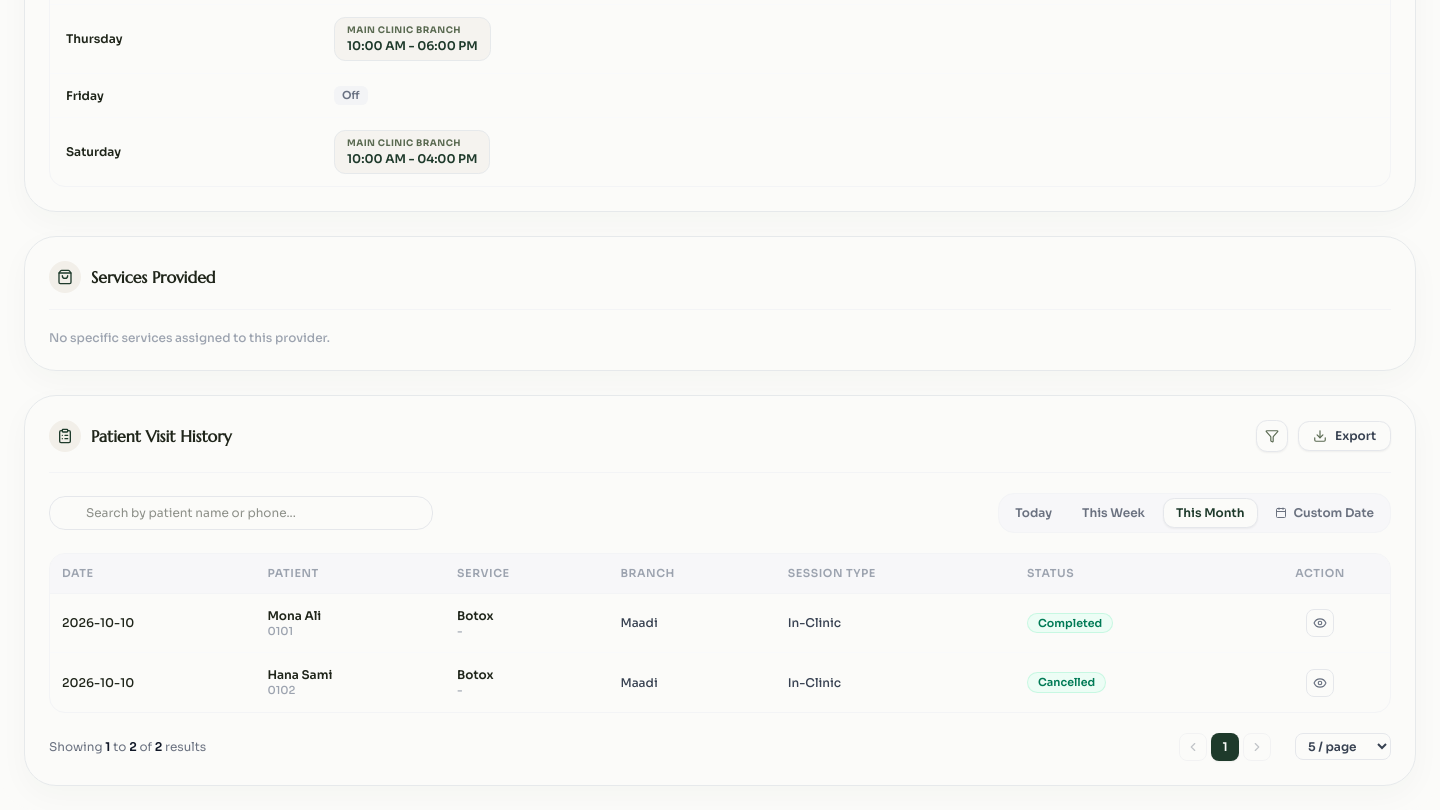
Test: search and status filters › search filters by patient name across the visible rows
(page scrolled)
Type "Mona" into the field with placeholder "Search by patient name or phone...".
click(241, 513); type("Mona")  # box [49,496,433,530]
(page scrolled)
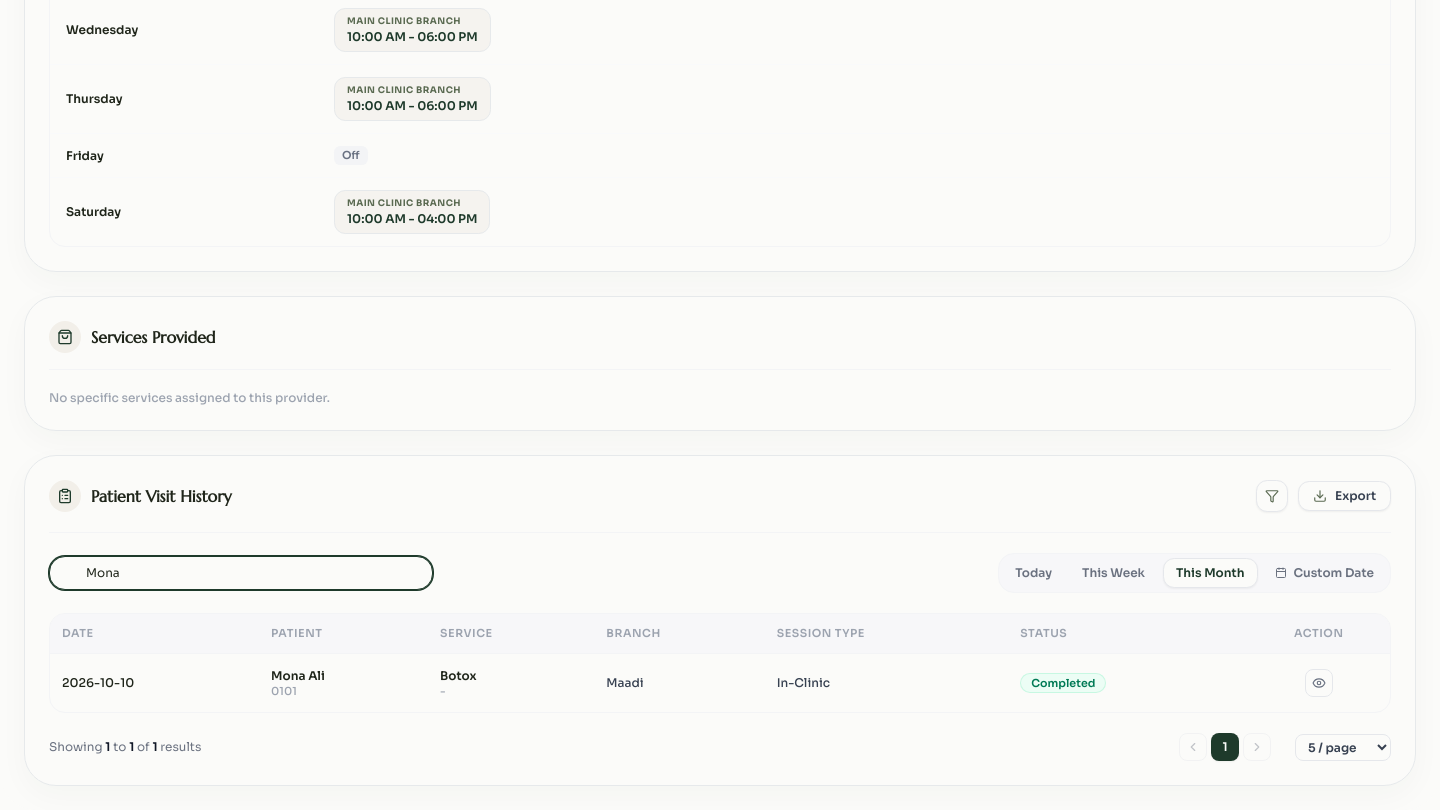
expect the text "Mona Ali" is shown: met, box [271,667,325,682]
expect the text "Hana Sami" is gone: met
